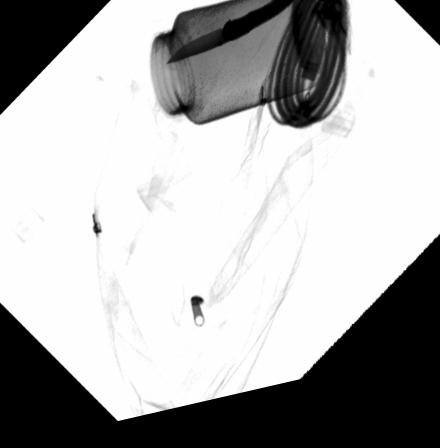Knife: (165, 0, 300, 71)
